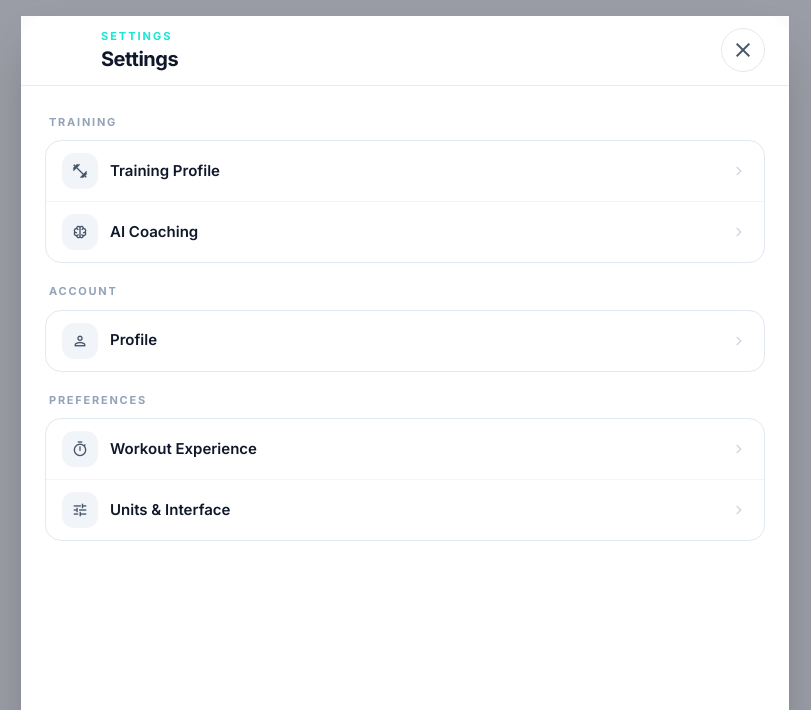
it: SettingsDrawer autosave › hides duplicate titles in the training profile menu
The image size is (811, 710).
Click the button "Training Profile" at [80, 171], box x1=46 y1=141 x2=764 y2=201
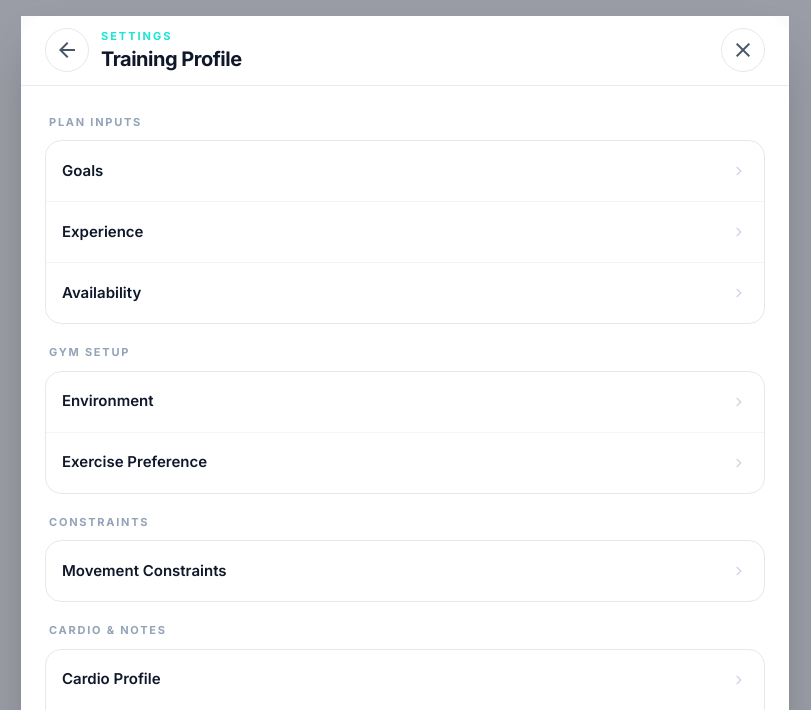
Expected: the heading "Training Profile" is shown, x1=101 y1=44 x2=242 y2=72
Expected: the text "Plan Inputs" is shown, x1=49 y1=114 x2=142 y2=128
Expected: the text "Gym Setup" is shown, x1=49 y1=345 x2=130 y2=359
